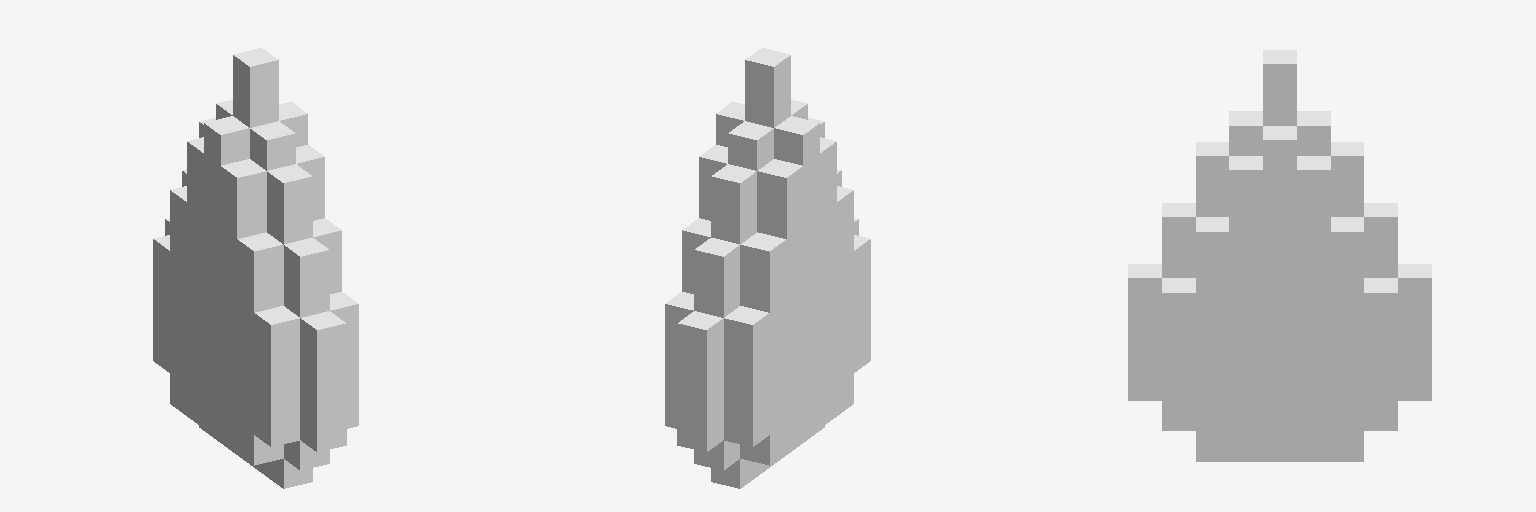
The model's file is GotaAgua.obj.
3 renders of one model, left to right at view 1: azimuth 30°, elevation 25°; view 2: azimuth 150°, elevation 25°; view 3: azimuth 270°, elevation 25°, orthographic.
Visible parts, largest first — view 1: object 1; view 2: object 1; view 3: object 1.
Boxes of the visible parts, <box> form: object 1: <box>153,48,358,488</box>; object 1: <box>665,48,870,488</box>; object 1: <box>1128,50,1431,461</box>.
Size of the model in its own units: 0.3 by 1.3 by 0.9.